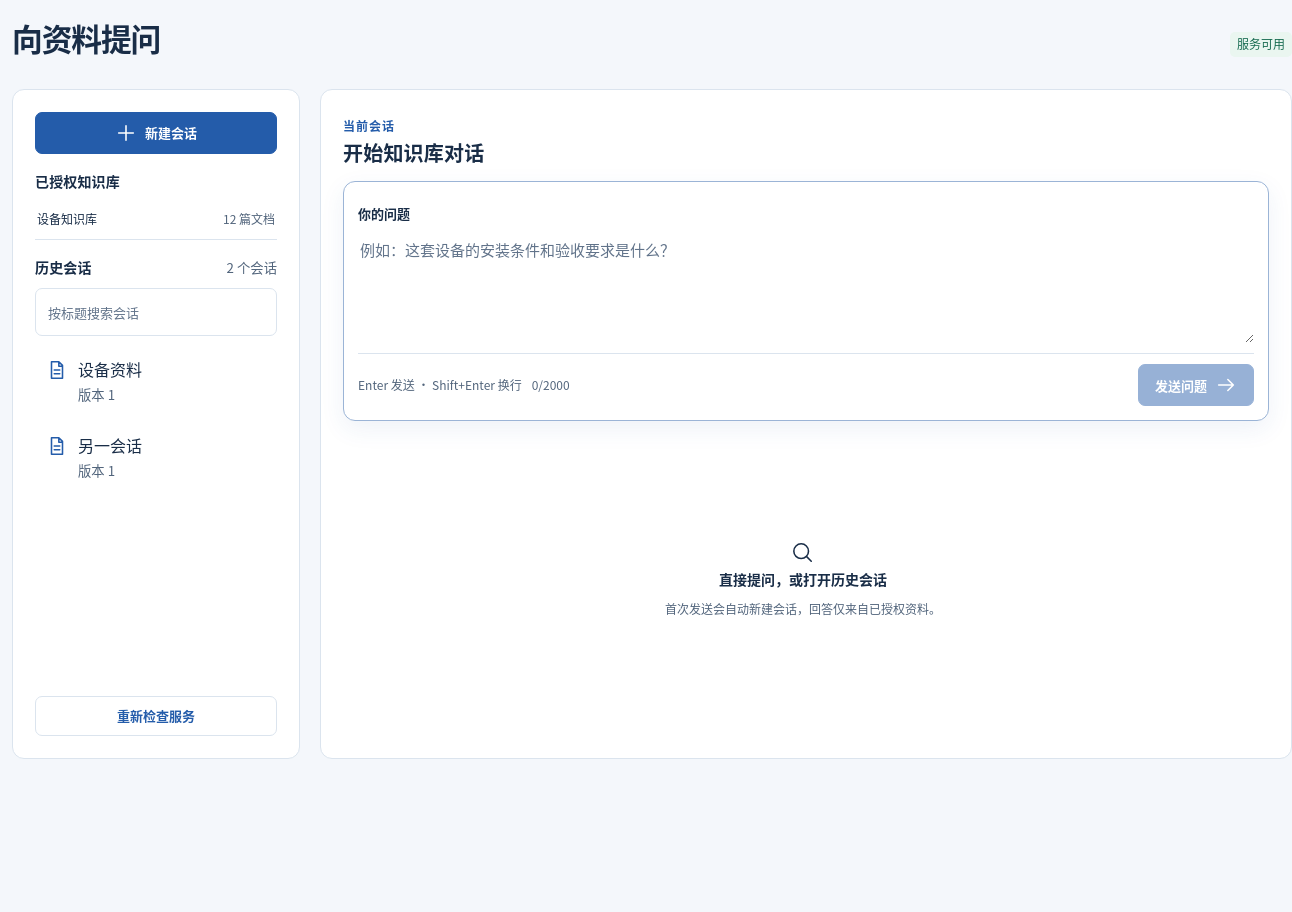
Scenario: ProductKnowledge › keeps the active request and its identity when history is clicked during generation
Click the button "设备资料 版本 1". click: (154, 381)
box: [35, 346, 273, 416]
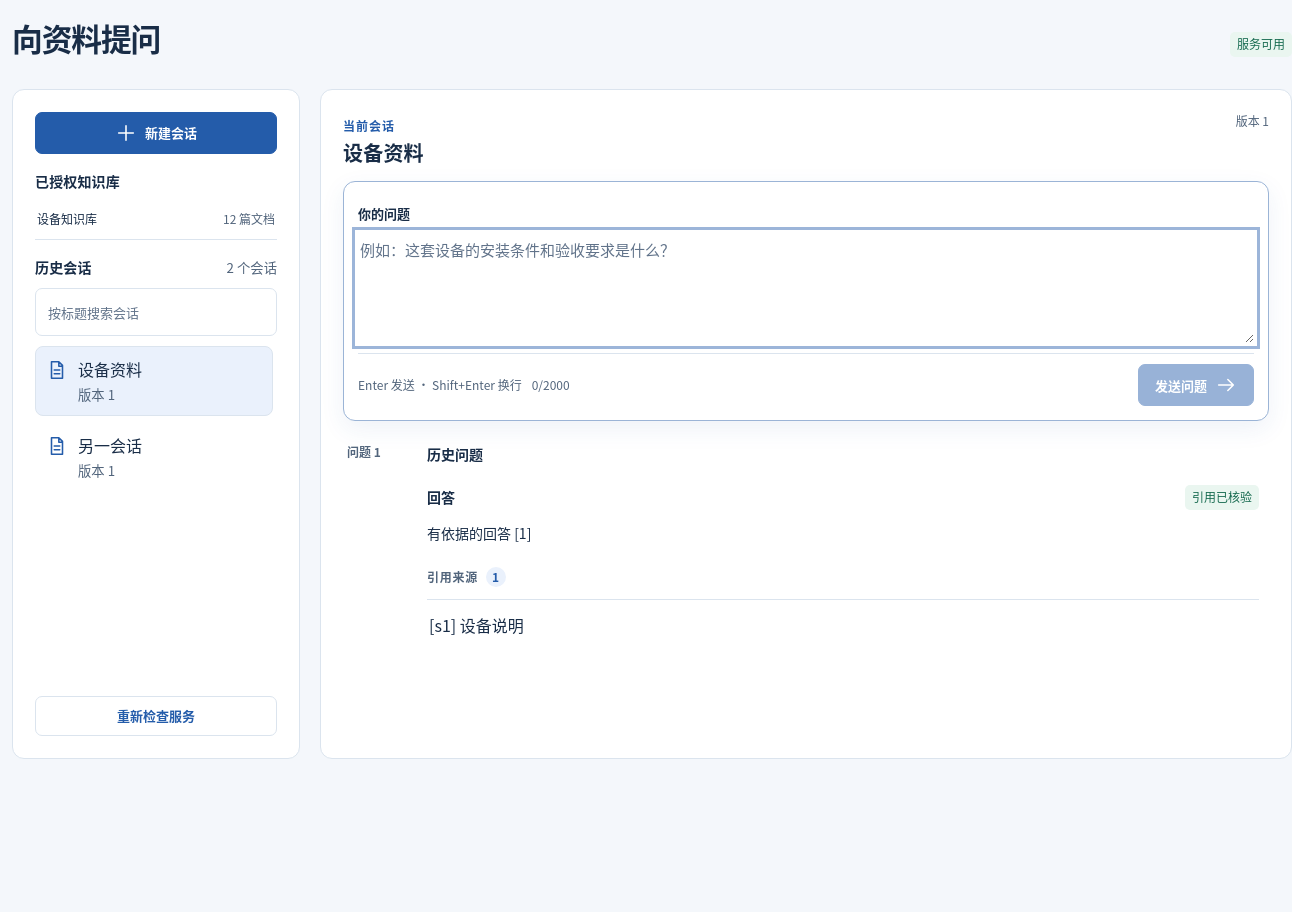
Check: the text "有依据的回答 [1]" is shown, box [427, 523, 531, 543]
Type "安装需要什么条件？" into the text box labelled "你的问题". click: (806, 288)
box: [358, 233, 1254, 343]
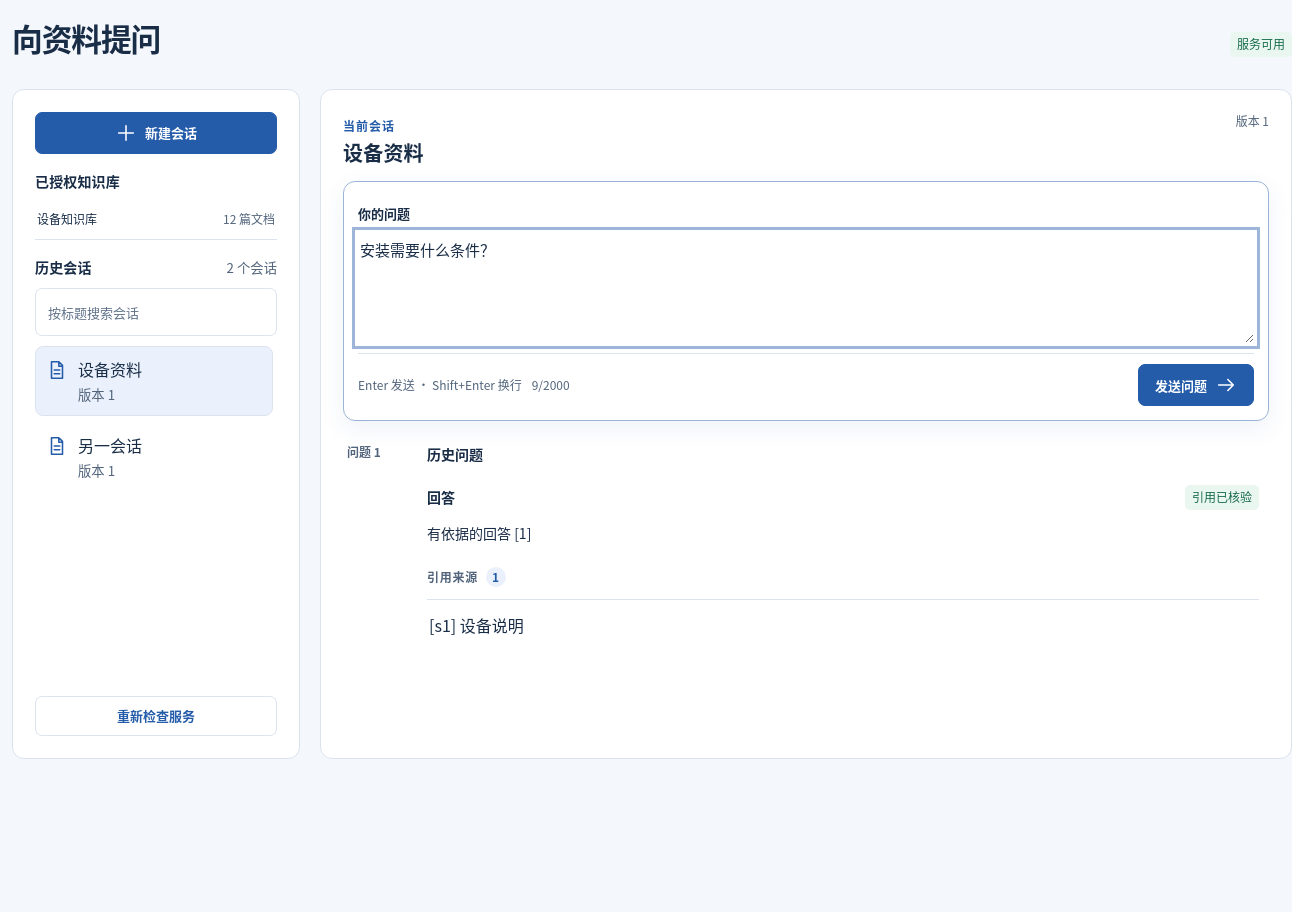
Click the button "发送问题". click: (1196, 385)
box: [1138, 364, 1254, 406]
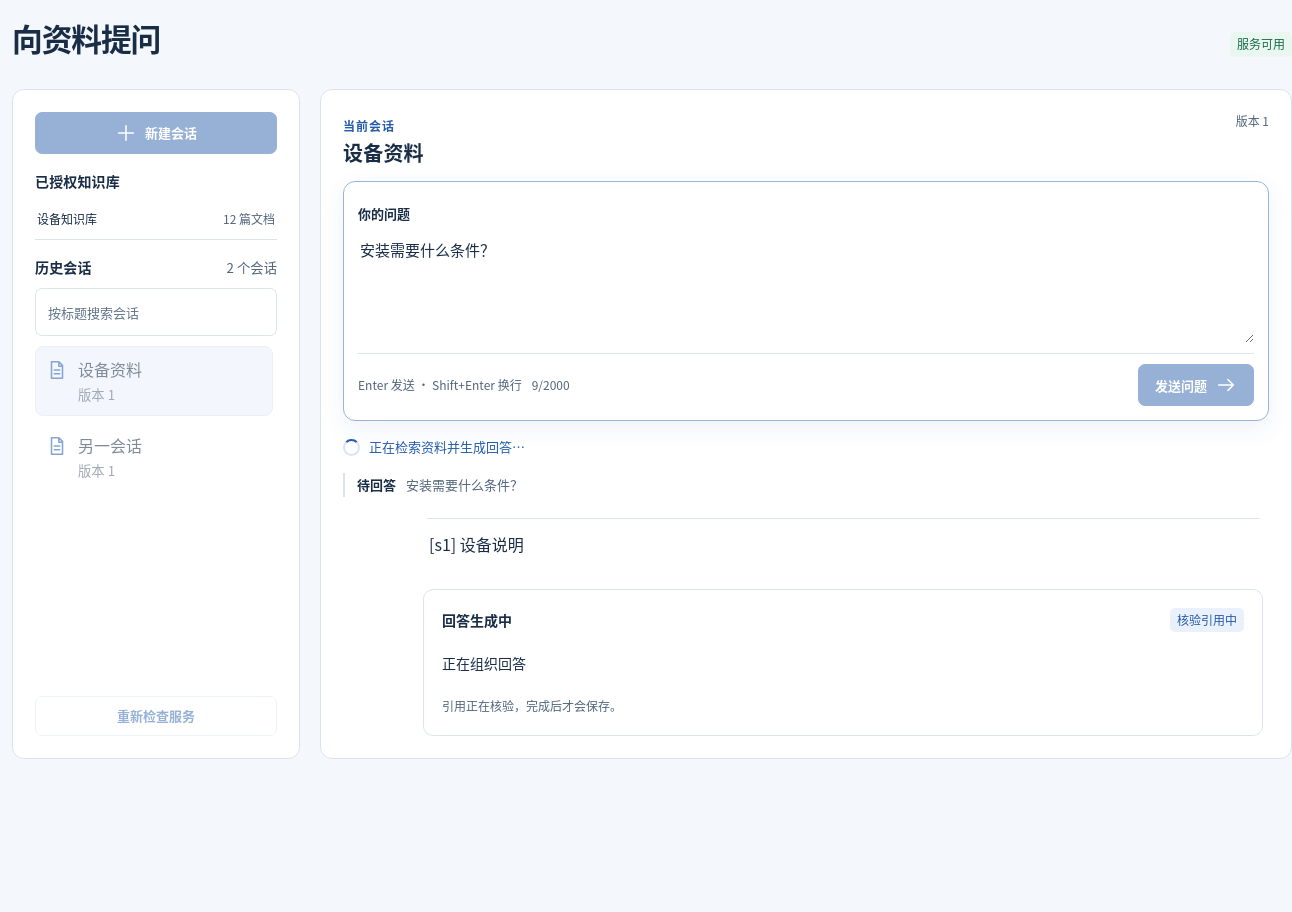
Check: the text "正在组织回答" is shown, box [442, 653, 526, 673]
Check: the button "另一会话 版本 1" is disabled
Click the button "另一会话 版本 1". click: (154, 457)
box: [35, 422, 273, 492]
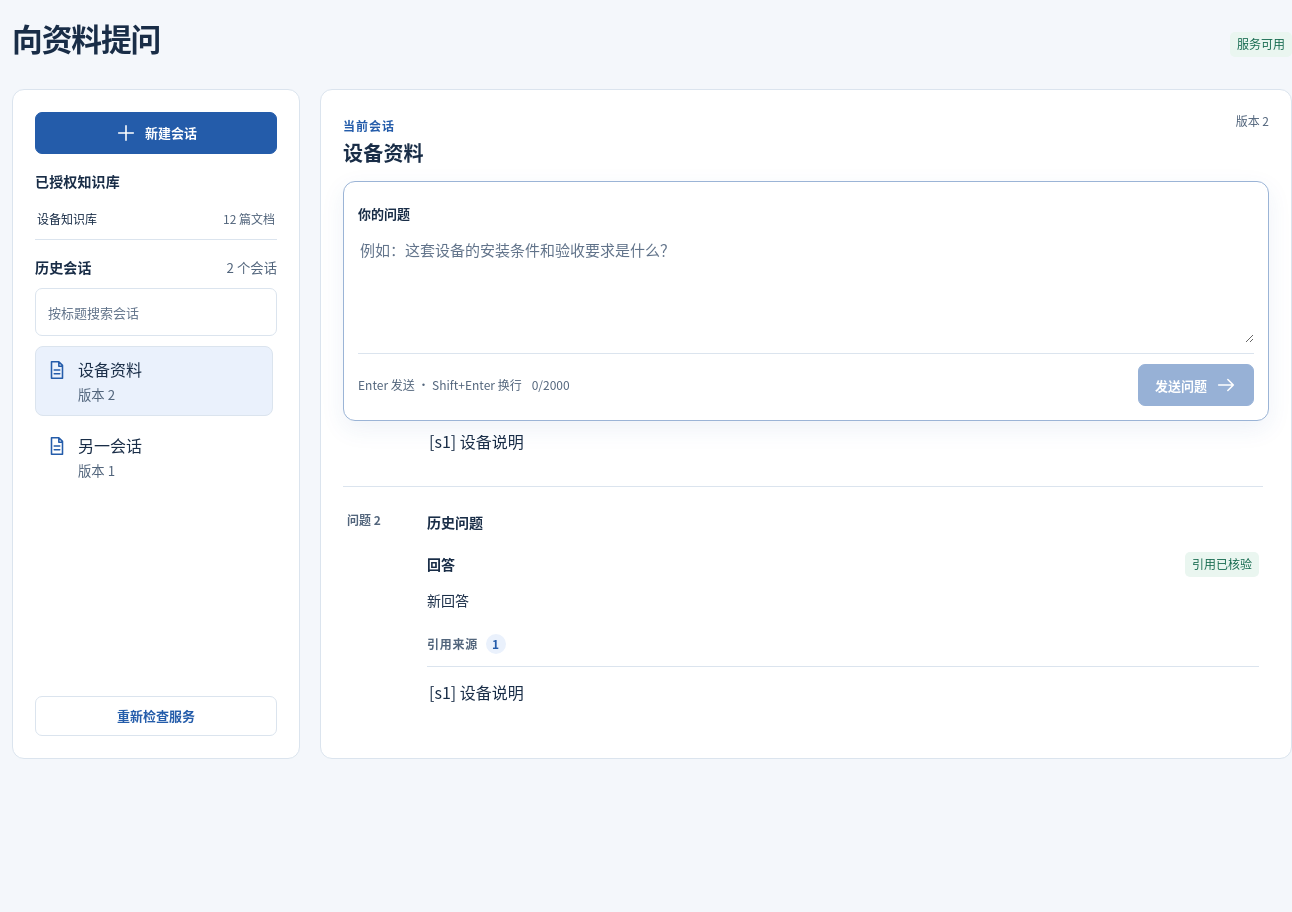
Check: the text "新回答" is shown, box [427, 590, 469, 610]
Check: the button "另一会话 版本 1" is enabled, box [35, 422, 273, 492]
